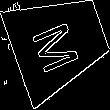M_E: (30, 13, 88, 74)
